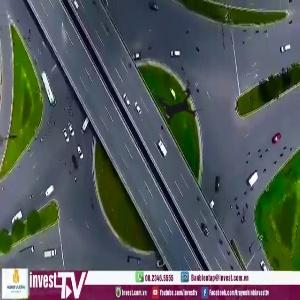drone: (134, 62, 222, 150)
